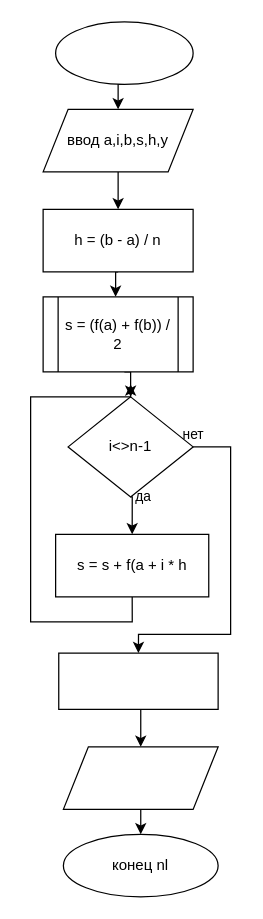
This 263x919 diagram has some shape labels left out. The shapes that lost their labels are listed below. From the top down, each one's centre as x and y in pixels, then its label:
At (123,52): "начало nl".
At (138,680): "s = s * h".
At (140,777): "вывод: Площадь трапеции, s".
